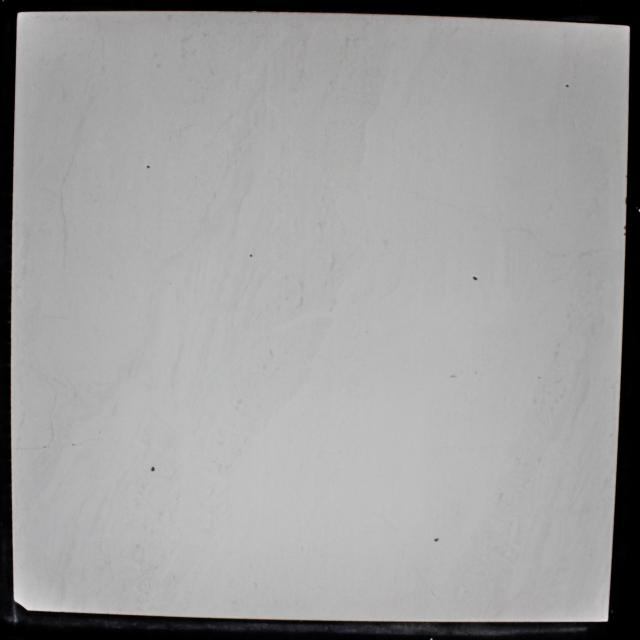edge-chipping: (13, 600, 28, 610)
hole: (472, 274, 479, 282), (433, 537, 440, 544), (150, 465, 156, 473), (146, 164, 152, 170), (564, 83, 570, 89), (249, 253, 253, 258)
